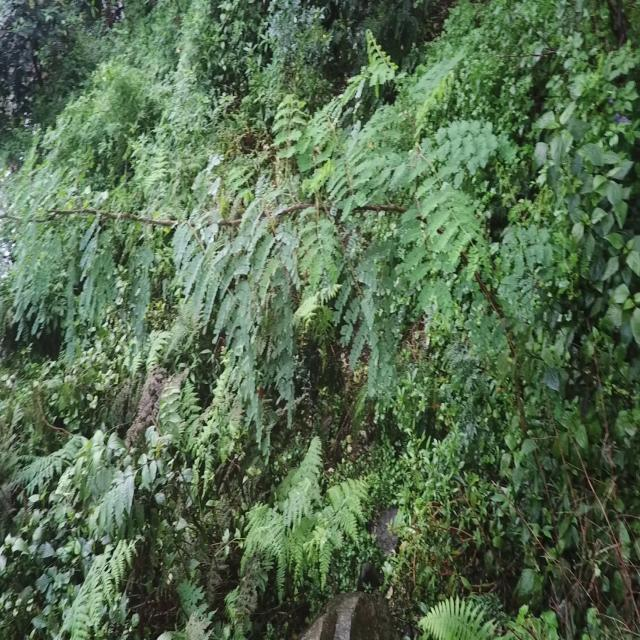Mysore-Thorn-Weed: (0, 60, 543, 411)
